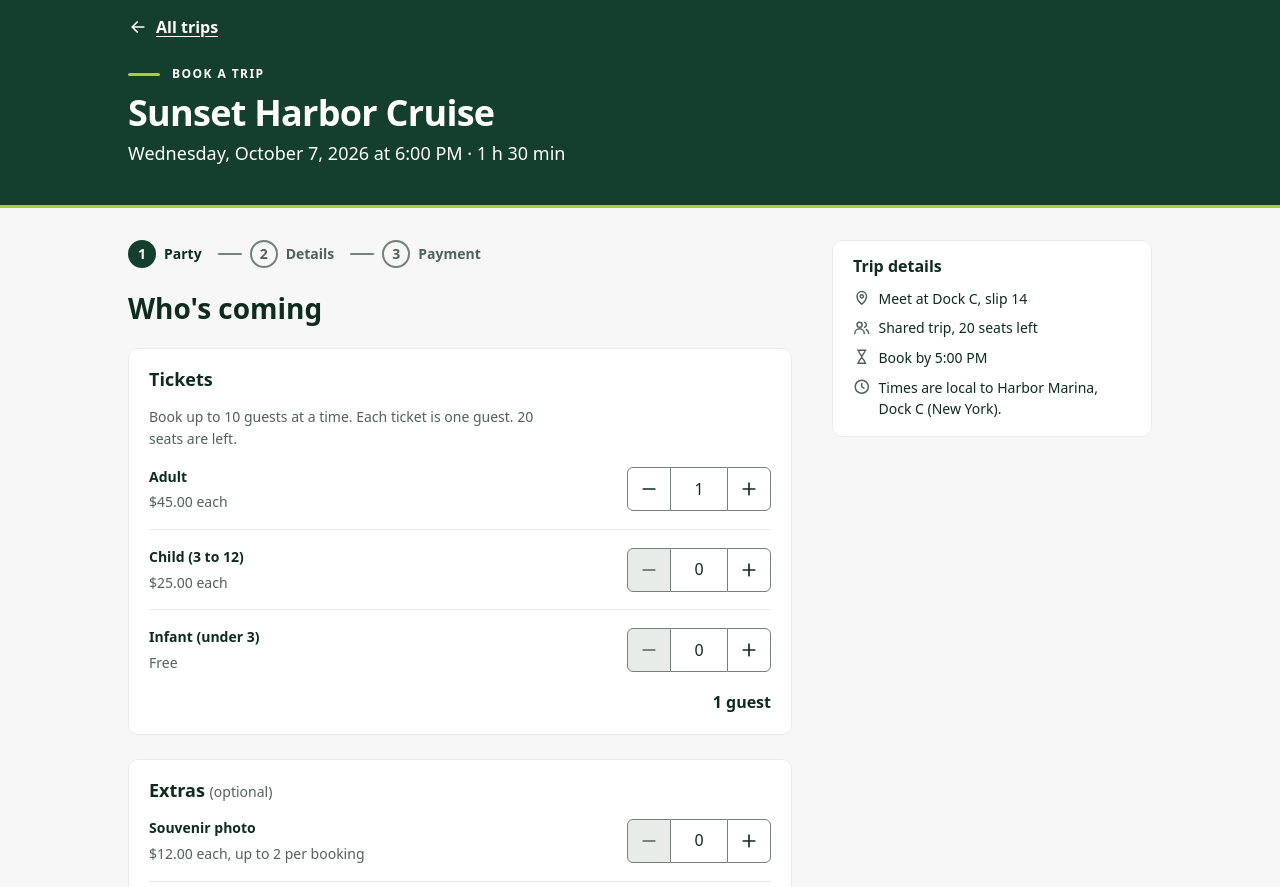
Scenario: choosing the party › refuses an empty party before asking for a price, and focuses the first count
The image size is (1280, 887).
What coordinates should you click on to do the following:
click the button named "Remove one Adult ticket"
I would click on:
 (649, 489)
Its box is [627,467,671,511].
(page scrolled)
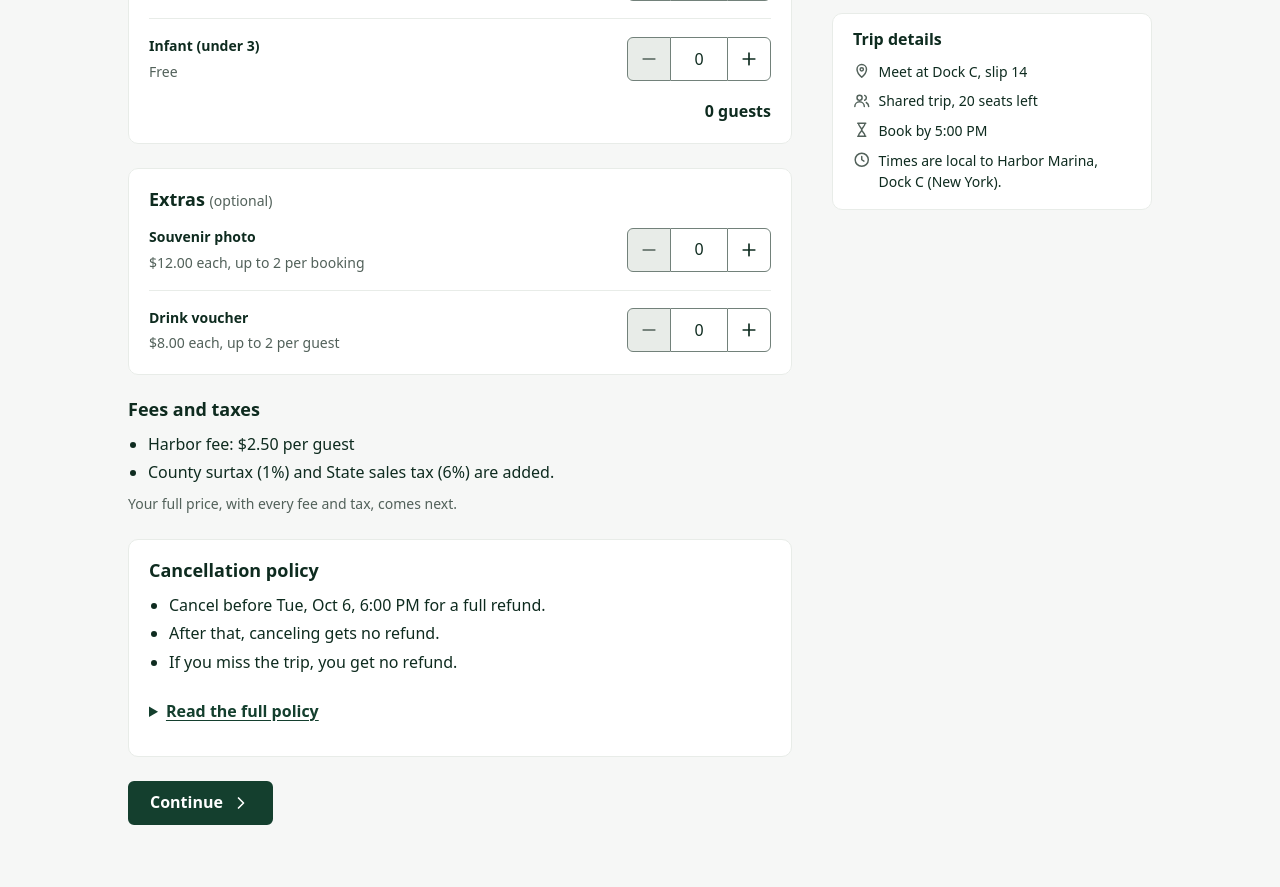
What coordinates should you click on to do the following:
click the button "Continue"
I would click on:
 (200, 803)
Its box is [128,781,273,825].
(page scrolled)
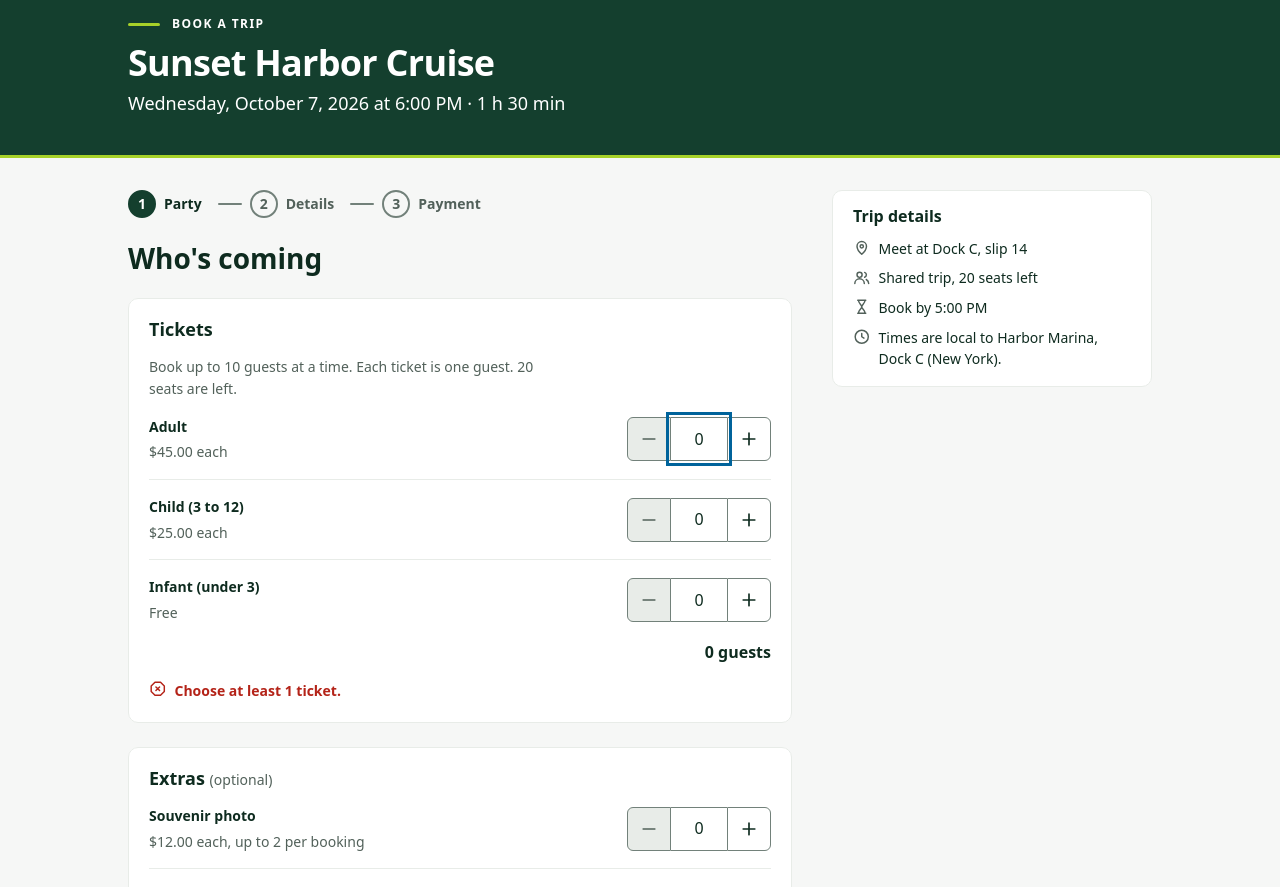
Expected: the text "Choose at least 1 ticket." is shown, [174,680,341,702]
